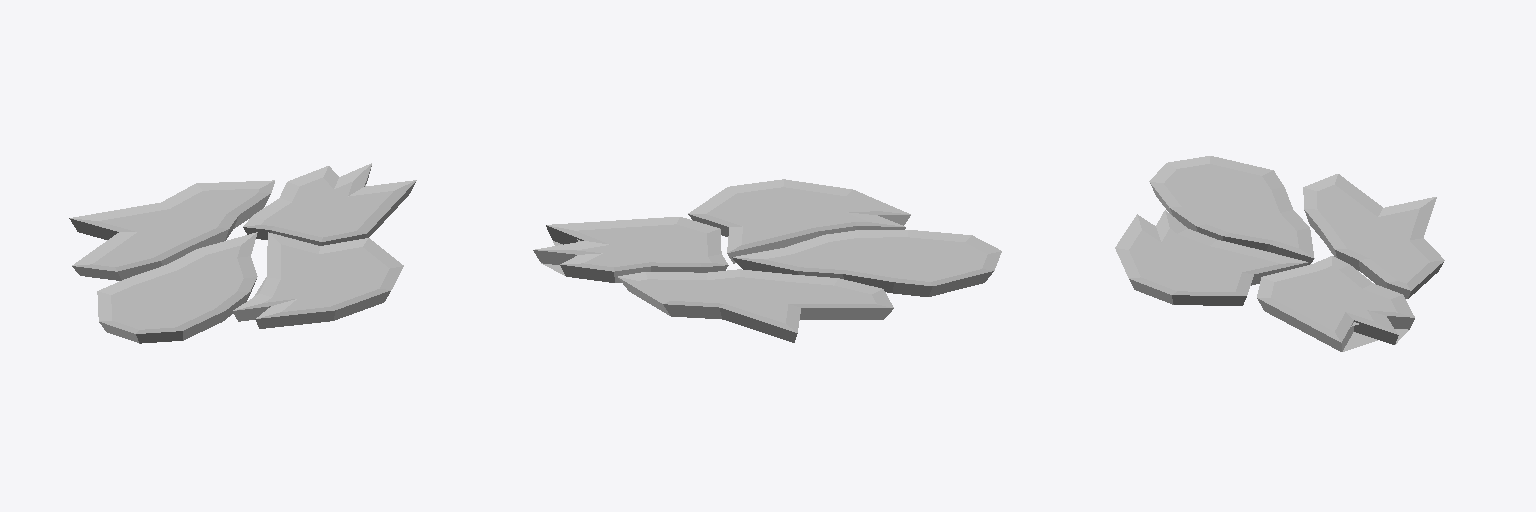
Rendered from ice_bergs.obj.
The picture shows the model from 3 angles: view 1: azimuth 30°, elevation 25°; view 2: azimuth 150°, elevation 25°; view 3: azimuth 270°, elevation 25°; orthographic projection.
Parts seen in each view (by area): view 1: Circle; view 2: Circle; view 3: Circle.
Boxes of the visible parts, box(x1,y1,x2,y2) form: Circle: box(69, 163, 416, 343); Circle: box(533, 179, 1001, 342); Circle: box(1115, 156, 1444, 351).
Bounding box in the file's own units: 4.88 × 0.1629 × 3.63.